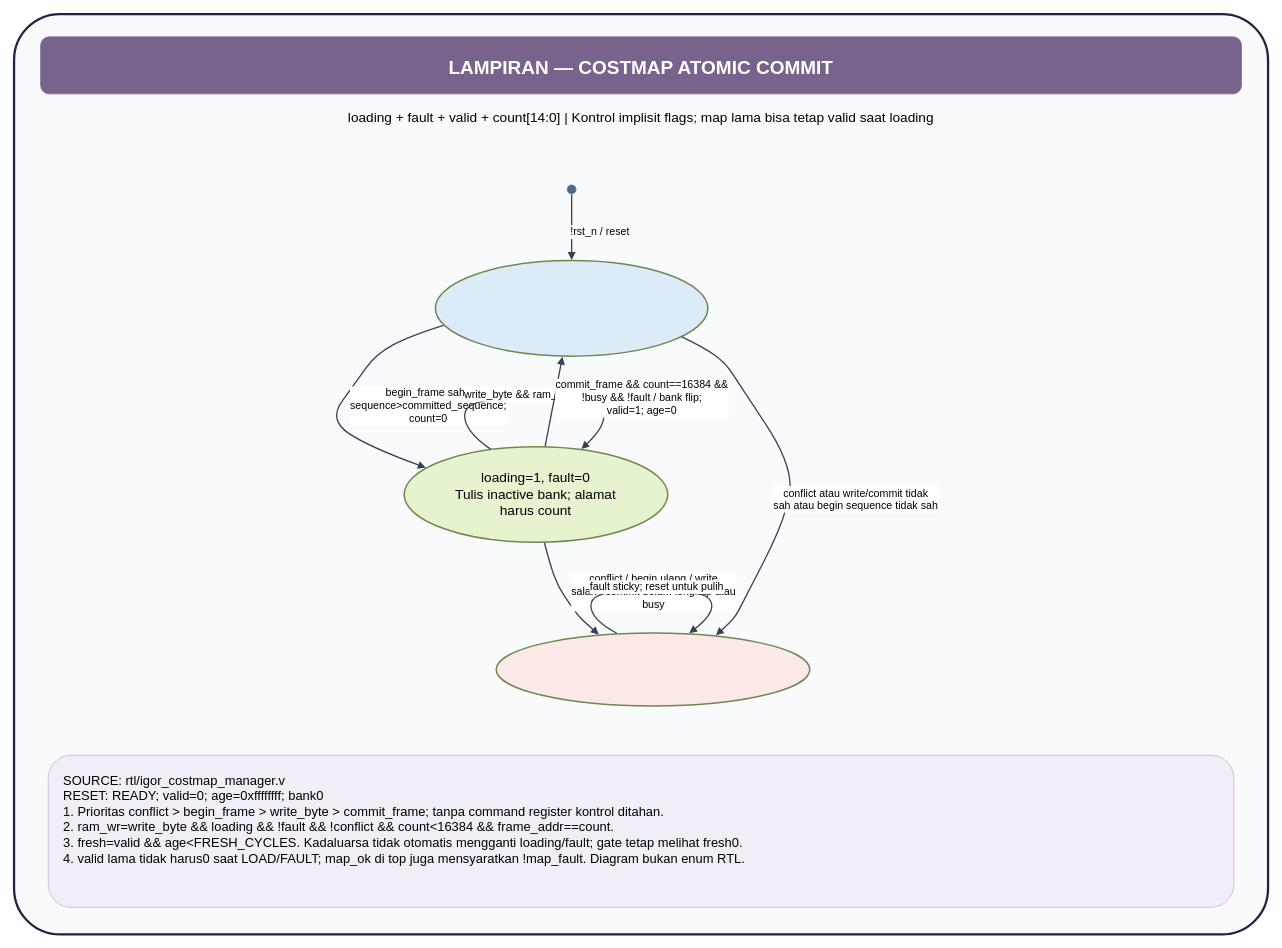
This 1282x948 diagram has some shape labels left out. Each missing label, with the box of its shape:
fault=1 loading=0; gate map_ok tertutup: (495, 632, 810, 706)
loading=0, fault=0 valid bisa0 atau1; age terus bertambah: (434, 259, 708, 357)
